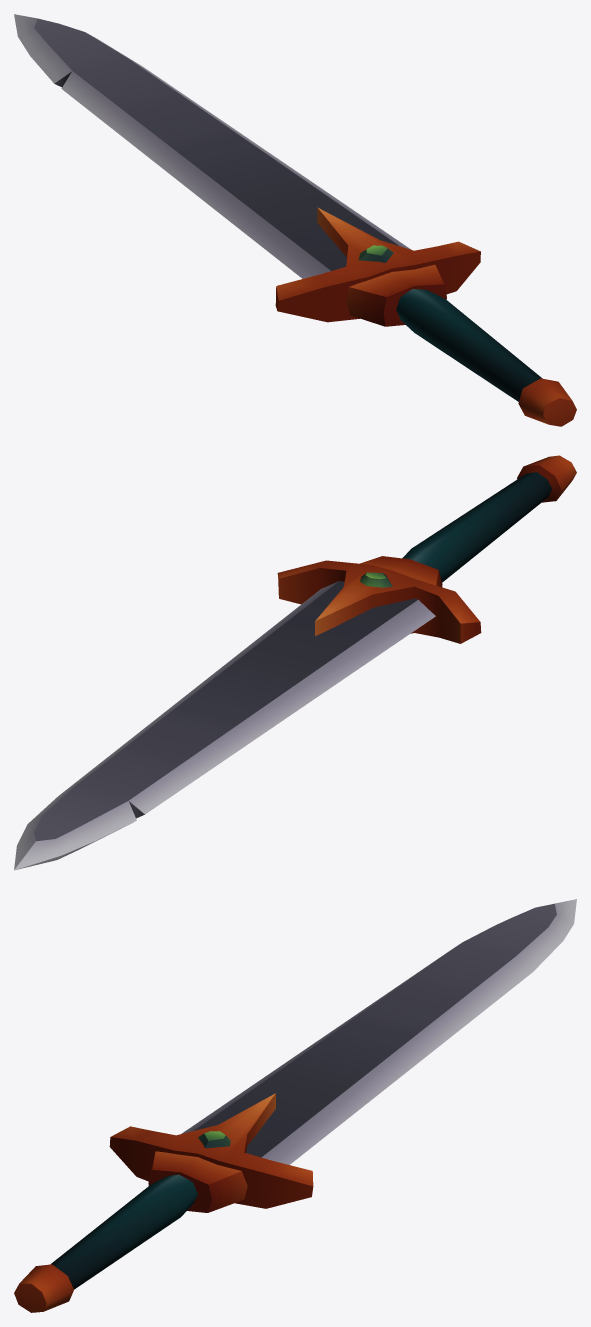
File: sword-grey.fbx
The picture shows the model from 3 angles, top to bottom: view 1: azimuth 30°, elevation 25°; view 2: azimuth 150°, elevation 25°; view 3: azimuth 330°, elevation 25°; orthographic projection.
Parts seen in each view (by area): view 1: sword2h13_grey; view 2: sword2h13_grey; view 3: sword2h13_grey.
Part boxes in pixels (<box>): sword2h13_grey: <box>14,14,576,426</box>; sword2h13_grey: <box>14,455,576,870</box>; sword2h13_grey: <box>14,899,576,1312</box>.
Size of the model in its own units: 16.78 by 4.48 by 78.17.
